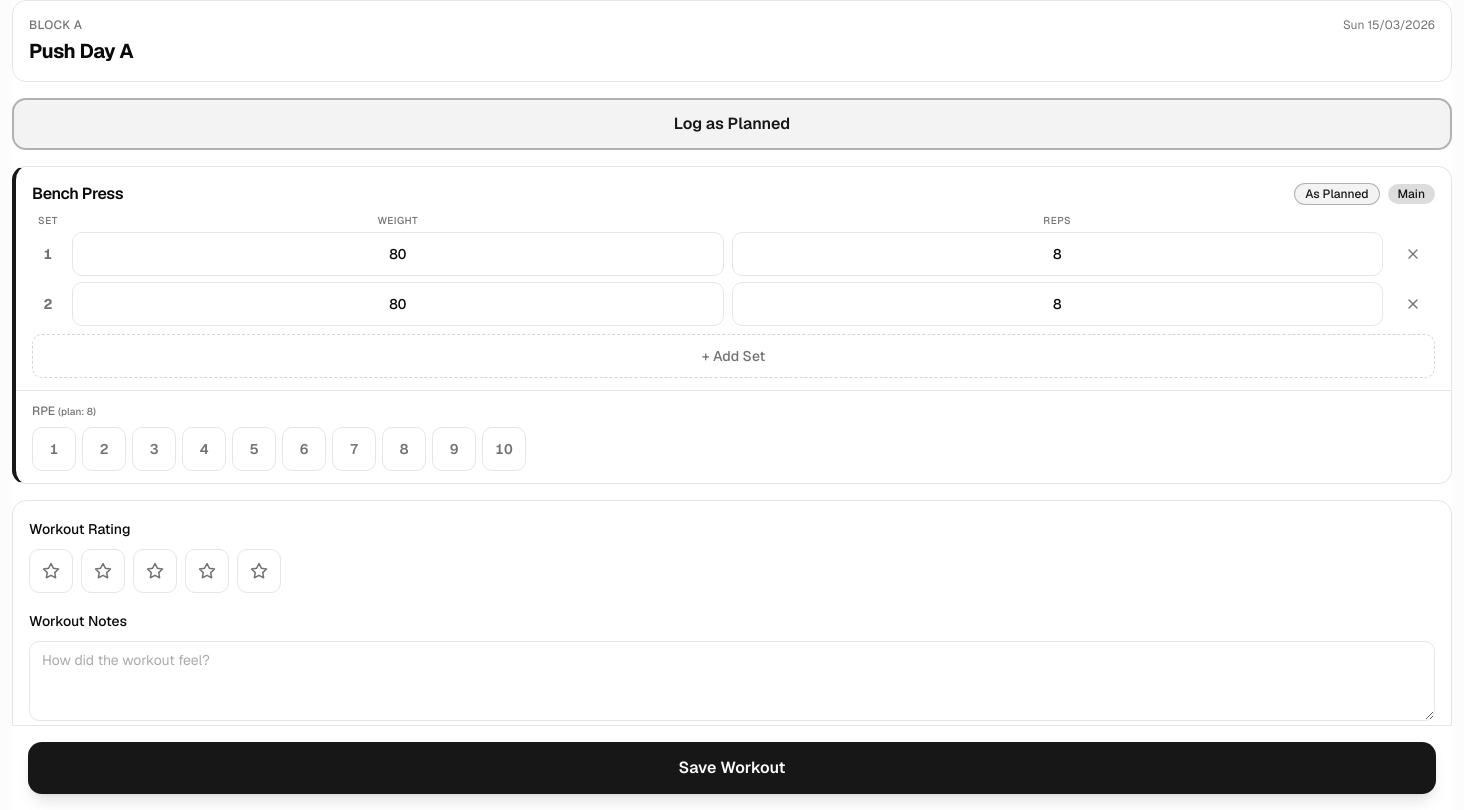
Scenario: WorkoutLoggingForm › add set › appends a new set row when clicked
Check: the number of elements with test id "set-row" is 2, box x1=32 y1=232 x2=1435 y2=276; x1=32 y1=282 x2=1435 y2=326
Click the button "+ Add Set": (734, 356) x1=32 y1=334 x2=1435 y2=378
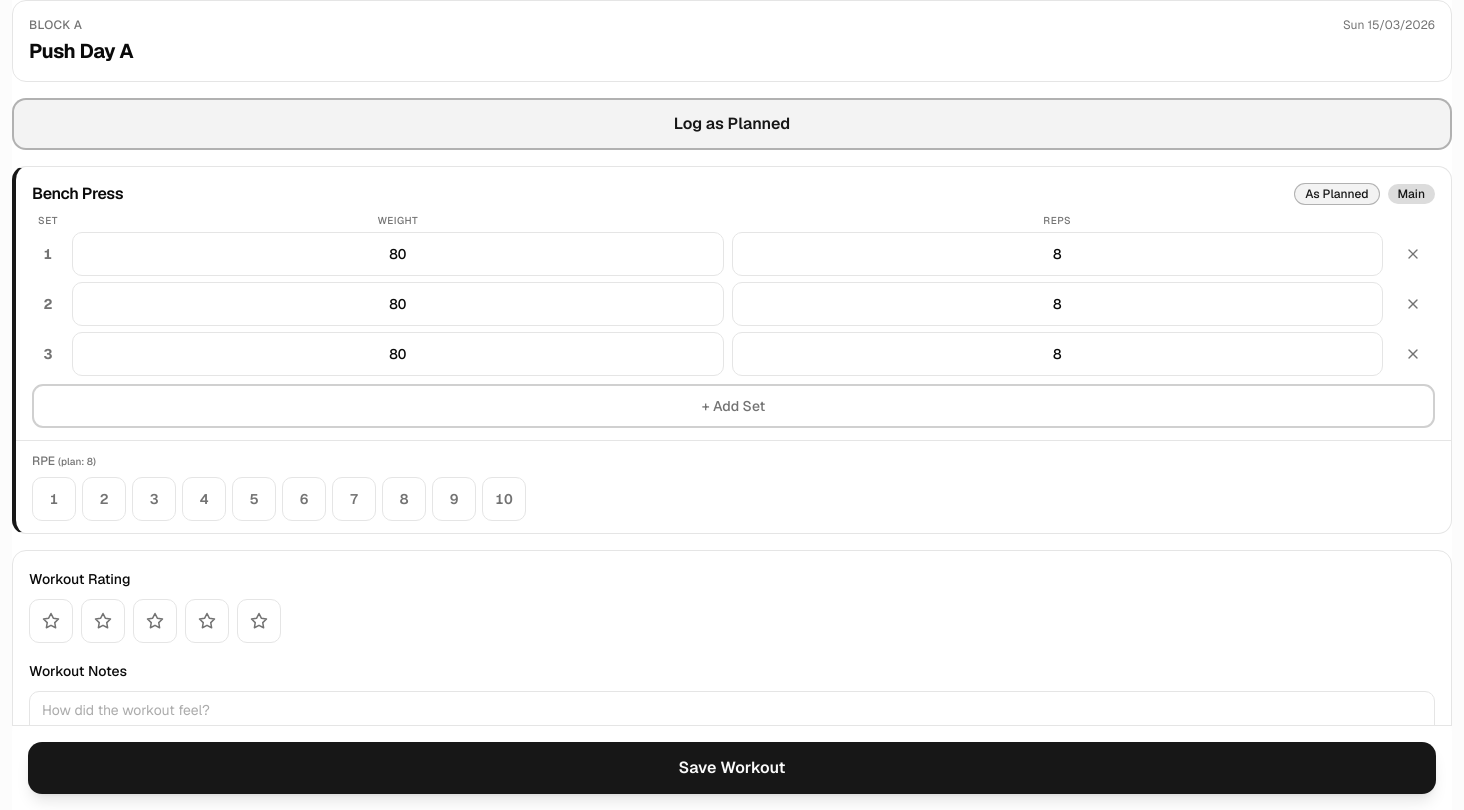
Check: the number of elements with test id "set-row" is 3, box x1=32 y1=232 x2=1435 y2=276; x1=32 y1=282 x2=1435 y2=326; x1=32 y1=332 x2=1435 y2=376
